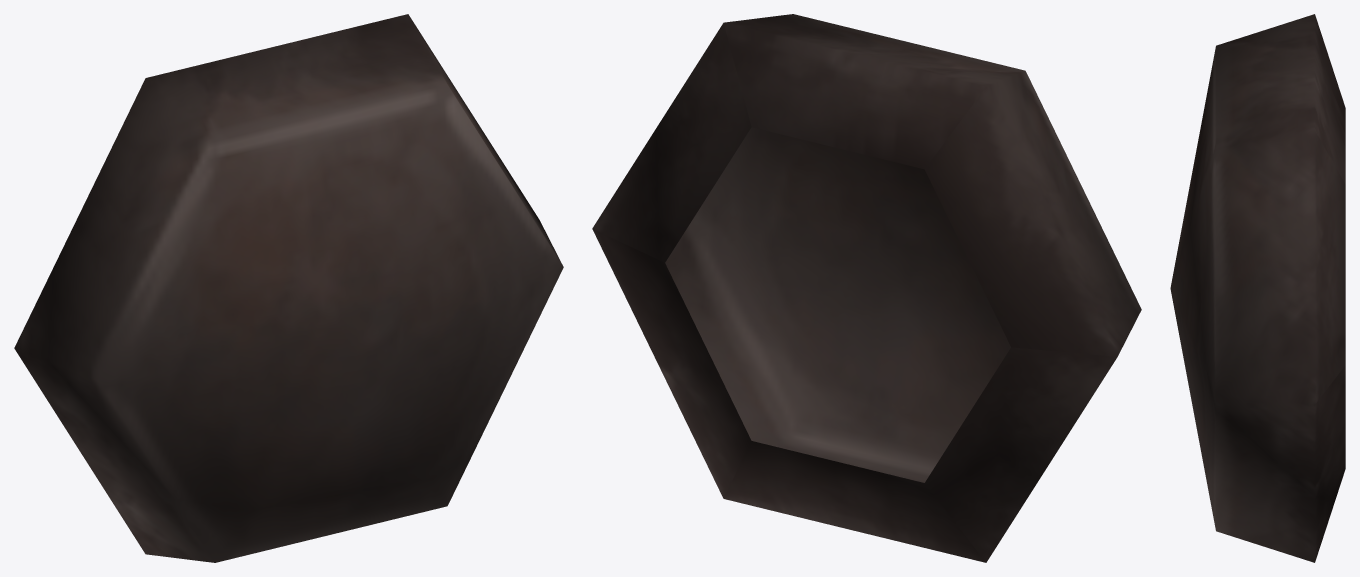
Rendered from Bolt.fbx.
3 renders of one model, left to right at view 1: azimuth 30°, elevation 25°; view 2: azimuth 150°, elevation 25°; view 3: azimuth 270°, elevation 25°, orthographic. The views are drawn at different scales.
Visible parts, largest first — view 1: bolt; view 2: bolt; view 3: bolt.
Boxes of the visible parts, x1,y1,x2,y2 form: bolt: [14, 14, 563, 562]; bolt: [592, 14, 1141, 562]; bolt: [1170, 14, 1345, 562].
Size of the model in its own units: 8.89 by 7.7 by 2.83.
